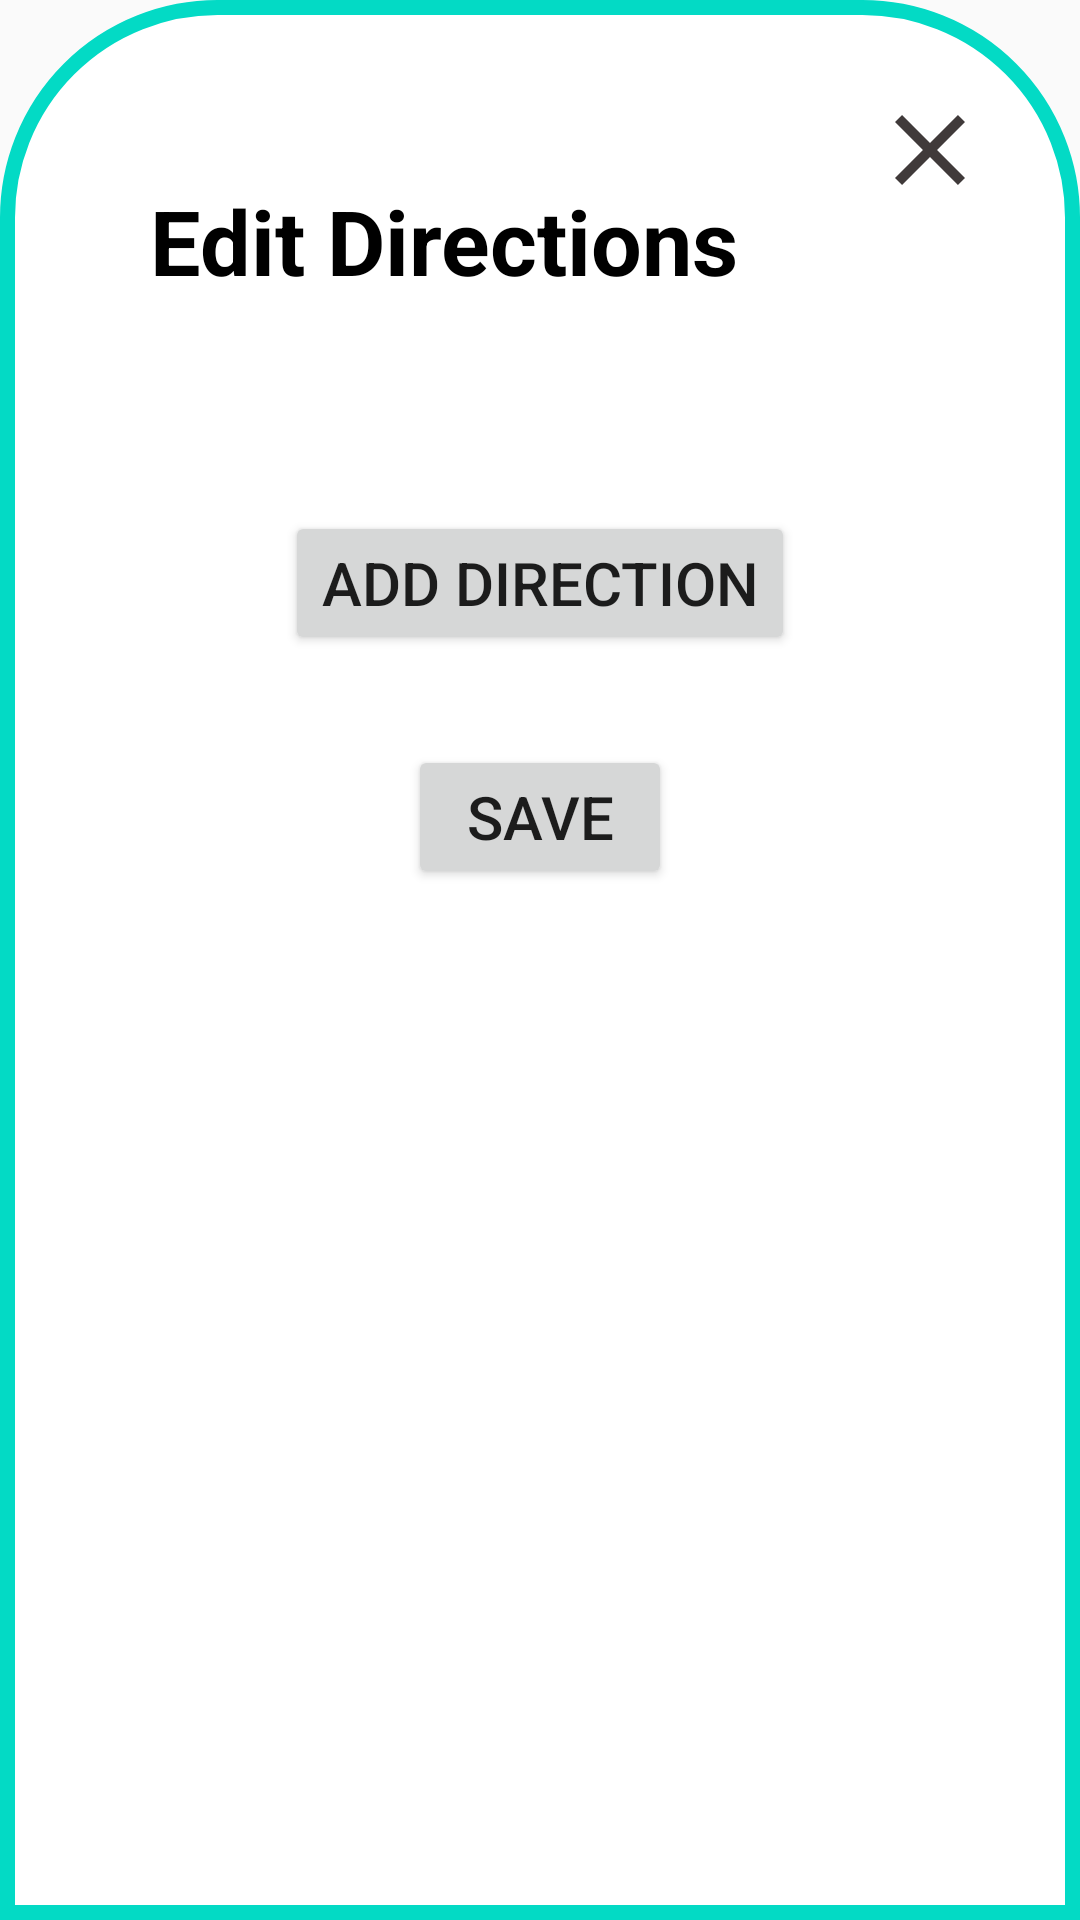

Icon bounding boxes for this 1080px×1920px phone screenshot, format (x1, y1, x2, y2):
close: (895, 115, 965, 185)
